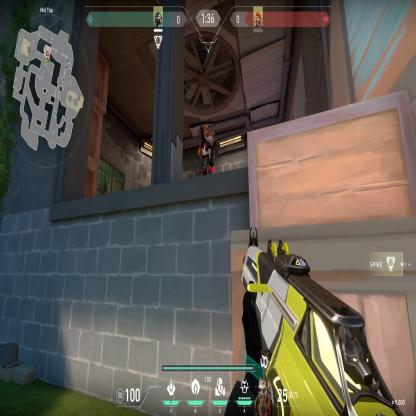enemy: (197, 122, 216, 178)
